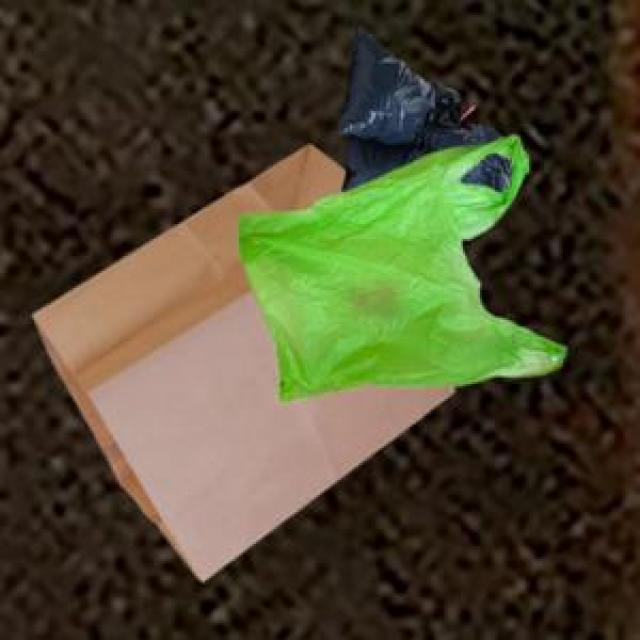miscellaneous trash: (335, 24, 510, 190)
paper: (30, 141, 450, 576)
